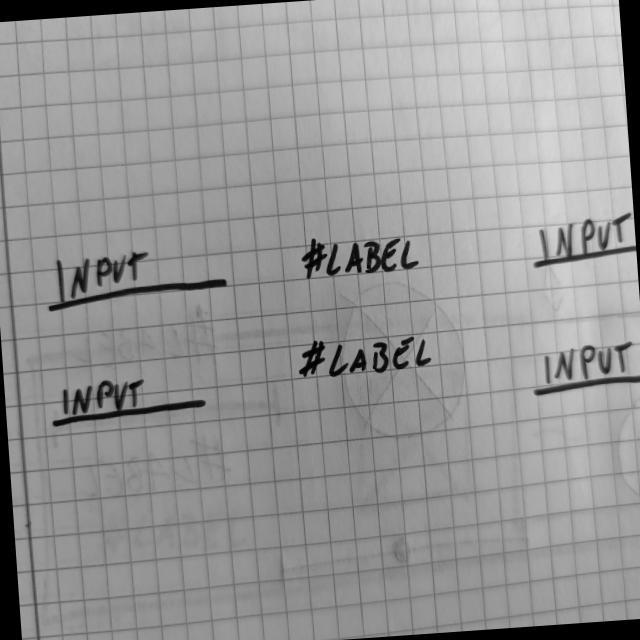input: (42, 235, 232, 317), (45, 366, 215, 433), (528, 329, 640, 402), (527, 208, 638, 272)
label: (296, 330, 438, 388), (297, 228, 422, 285)
